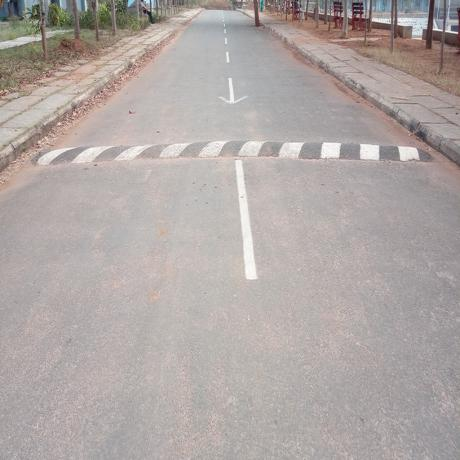Speed Bump: (32, 136, 437, 164)
